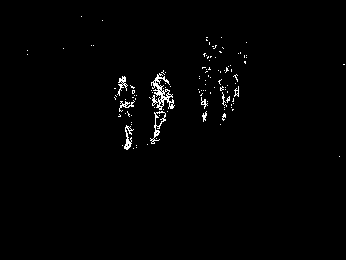person: (150, 70, 176, 144), (116, 76, 137, 151), (220, 66, 241, 120), (196, 63, 212, 123)
